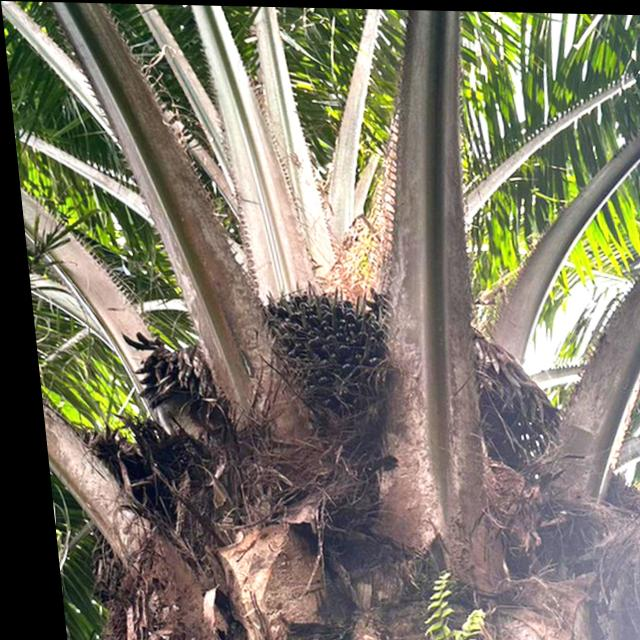unripe: (242, 284, 405, 463)
